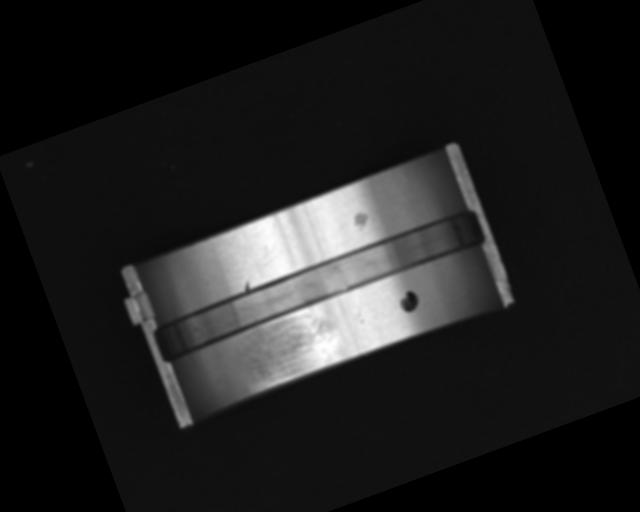blot: (397, 287, 422, 315)
bruise: (350, 207, 375, 234), (241, 278, 252, 292)
gap: (147, 206, 489, 363)
scratch: (232, 302, 347, 393)
